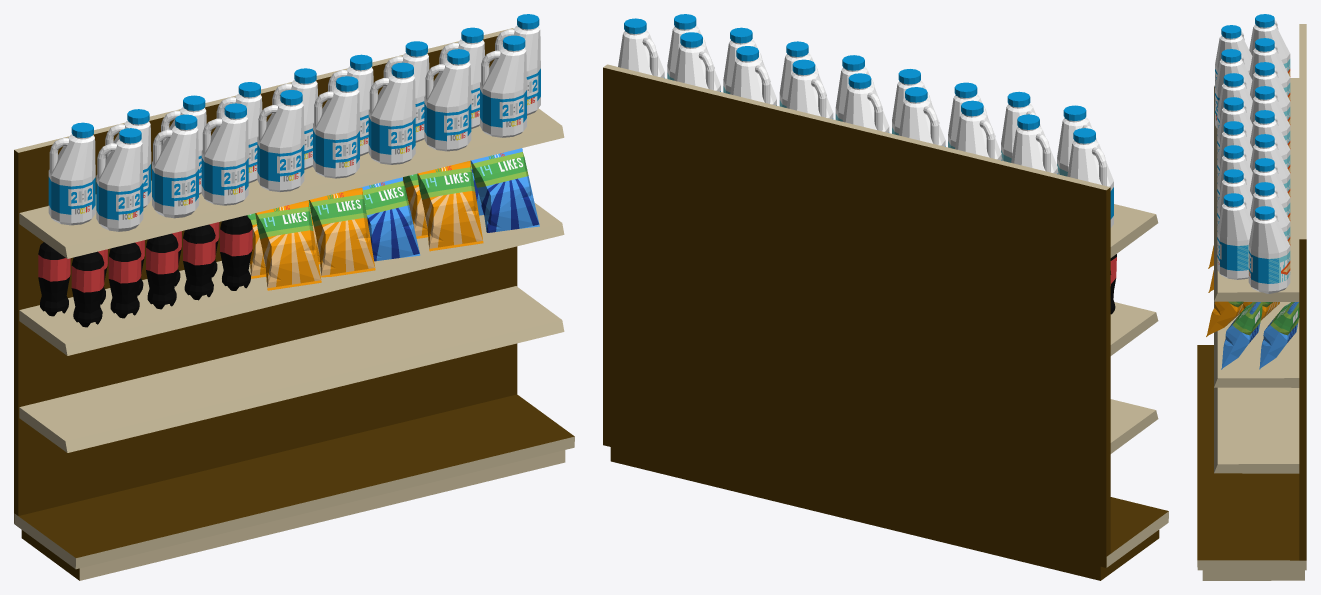
The model's file is canOfcola1.fbx.
3 renders of one model, left to right at view 1: azimuth 30°, elevation 25°; view 2: azimuth 150°, elevation 25°; view 3: azimuth 270°, elevation 25°, orthographic. The views are drawn at different scales.
Visible parts, largest first — view 1: bottom.003, group478861069.002, group478861069.006, group478861069.001, group1389919843.004, group1389919843, group1389919843.015, group1389919843.012, group1389919843.003, group1389919843.011, group1389919843.014, group1389919843.016 (+18 smaller); view 2: bottom.003, group1389919843, group1389919843.006, group1389919843.007, group1389919843.002, group1389919843.009, group1389919843.005, group1389919843.001, group1389919843.010, group1389919843.008, group1389919843.003, group1389919843.004 (+6 smaller); view 3: bottom.003, group1389919843.010, group1389919843.016, group478861069.008, group478861069.009, group1389919843, group1389919843.001, group1389919843.003, group1389919843.002, group1389919843.006, group1389919843.007, group1389919843.009 (+10 smaller).
Boxes of the visible parts, x1=… form: bottom.003: x1=14, y1=28, x2=574, y2=580; group478861069.002: x1=309, y1=187, x2=375, y2=277; group478861069.006: x1=417, y1=161, x2=483, y2=251; group478861069.001: x1=255, y1=200, x2=321, y2=290; group1389919843.004: x1=96, y1=128, x2=143, y2=231; group1389919843: x1=48, y1=122, x2=95, y2=225; group1389919843.015: x1=201, y1=103, x2=248, y2=205; group1389919843.012: x1=368, y1=62, x2=415, y2=164; group1389919843.003: x1=152, y1=114, x2=198, y2=218; group1389919843.011: x1=424, y1=49, x2=471, y2=151; group1389919843.014: x1=257, y1=90, x2=304, y2=191; group1389919843.016: x1=480, y1=35, x2=526, y2=137; bottom.003: x1=603, y1=64, x2=1168, y2=580; group1389919843: x1=1067, y1=128, x2=1113, y2=227; group1389919843.006: x1=842, y1=73, x2=889, y2=132; group1389919843.007: x1=786, y1=59, x2=833, y2=119; group1389919843.002: x1=955, y1=100, x2=1001, y2=160; group1389919843.009: x1=674, y1=32, x2=720, y2=91; group1389919843.005: x1=899, y1=87, x2=945, y2=146; group1389919843.001: x1=1011, y1=114, x2=1057, y2=174; group1389919843.010: x1=618, y1=18, x2=664, y2=78; group1389919843.008: x1=730, y1=46, x2=776, y2=105; group1389919843.003: x1=1001, y1=91, x2=1040, y2=162; group1389919843.004: x1=1057, y1=105, x2=1096, y2=176; bottom.003: x1=1197, y1=24, x2=1306, y2=580; group1389919843.010: x1=1248, y1=206, x2=1290, y2=293; group1389919843.016: x1=1217, y1=193, x2=1252, y2=279; group478861069.008: x1=1221, y1=302, x2=1262, y2=369; group478861069.009: x1=1259, y1=302, x2=1299, y2=369; group1389919843: x1=1249, y1=14, x2=1290, y2=76; group1389919843.001: x1=1249, y1=38, x2=1290, y2=100; group1389919843.003: x1=1215, y1=49, x2=1252, y2=128; group1389919843.002: x1=1250, y1=62, x2=1290, y2=124; group1389919843.006: x1=1250, y1=110, x2=1290, y2=172; group1389919843.007: x1=1250, y1=134, x2=1290, y2=196; group1389919843.009: x1=1250, y1=182, x2=1290, y2=245.
Size of the model in its own units: 2709 by 2163 by 578.
